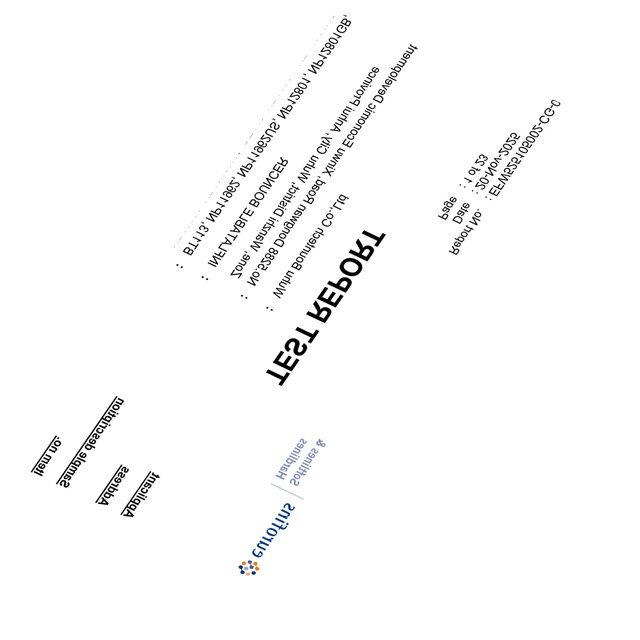eurofins: (236, 500, 298, 583)
